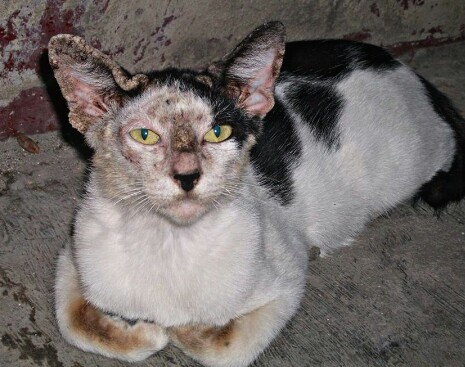kudis: (38, 30, 148, 131)
